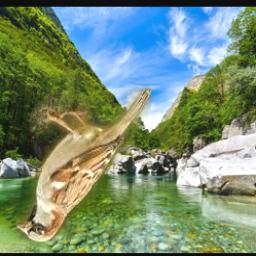Sparrow: (17, 88, 152, 242)
